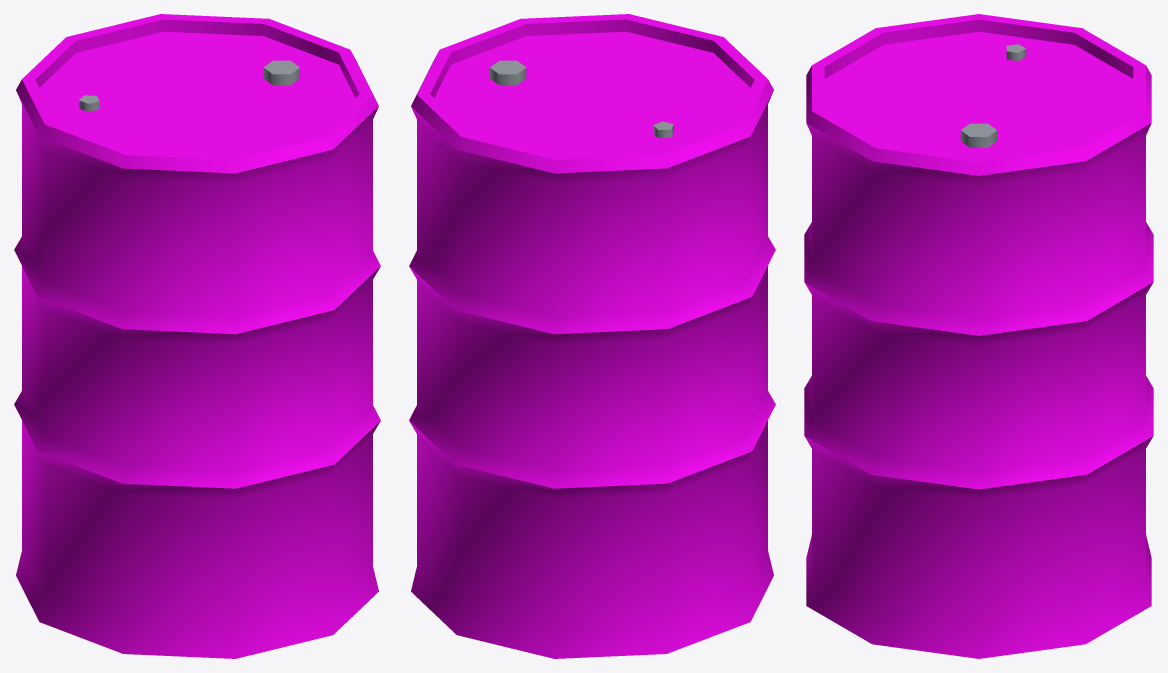
The model's file is prop_barrel.glb.
3 views of the same model, side by side, from view 1: azimuth 30°, elevation 25°; view 2: azimuth 150°, elevation 25°; view 3: azimuth 270°, elevation 25° (orthographic).
Parts seen in each view (by area): view 1: prop_barrel__mesh; view 2: prop_barrel__mesh; view 3: prop_barrel__mesh.
Part boxes in pixels (<box>): prop_barrel__mesh: <box>14,14,380,658</box>; prop_barrel__mesh: <box>409,14,775,658</box>; prop_barrel__mesh: <box>804,14,1153,658</box>.
Bounding box in the file's own units: 0.606 × 0.9 × 0.5763.
Materials: 1 (1 with a texture image).
